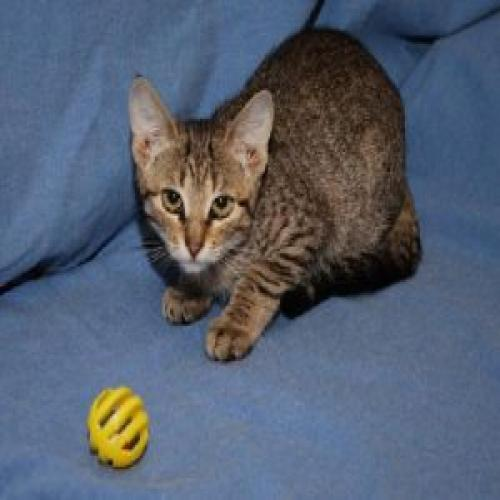cat-face: (126, 73, 278, 279)
